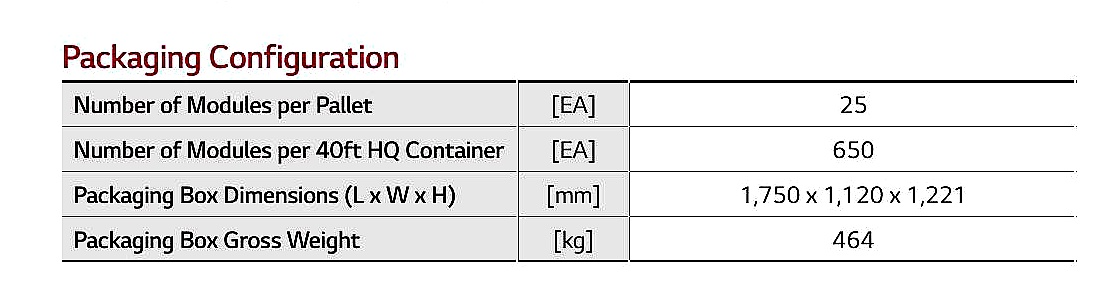table: (42, 32, 1086, 272)
table column: (53, 37, 518, 260), (629, 39, 1077, 259), (519, 36, 628, 260)
table name: (52, 35, 1078, 83)
table row: (52, 38, 1079, 81), (53, 173, 1079, 216), (53, 83, 1079, 124), (53, 130, 1080, 170), (56, 221, 1080, 257)
table row header: (50, 37, 518, 259), (519, 38, 630, 261)
table spanning cell: (54, 40, 1079, 81)
